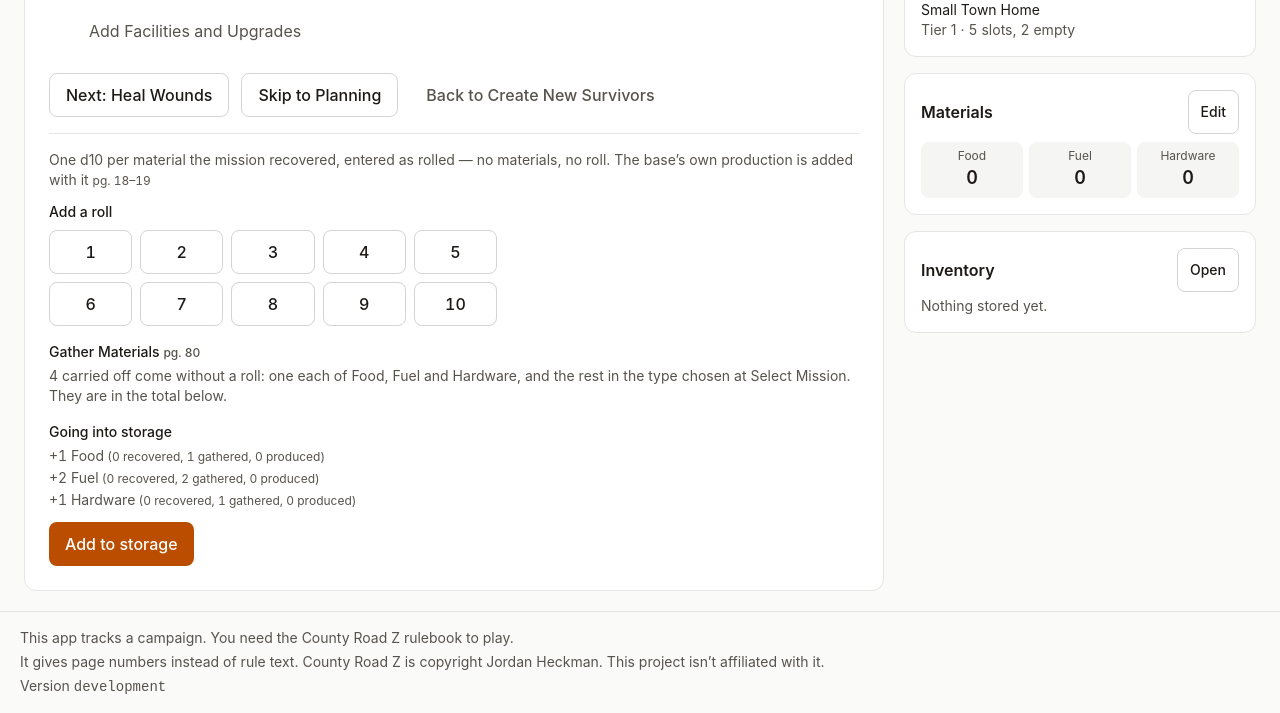
Test: Add Materials to Storage › stores a Gather Materials haul with nothing left to roll, without asking
This screenshot has width=1280, height=713.
(page scrolled)
Click the button "Add to storage": click(121, 544) [49,522,194,566]
(page scrolled)
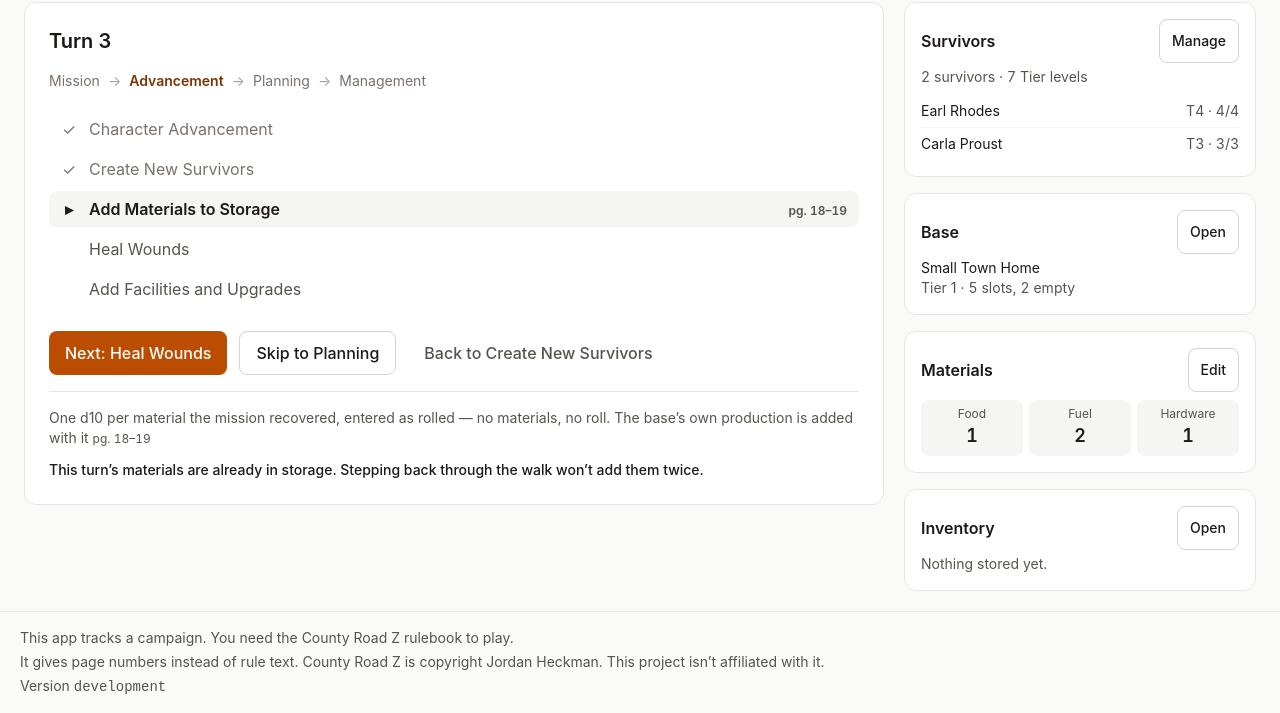
Now the text "already in storage" is shown, box [49,460,704,478]
